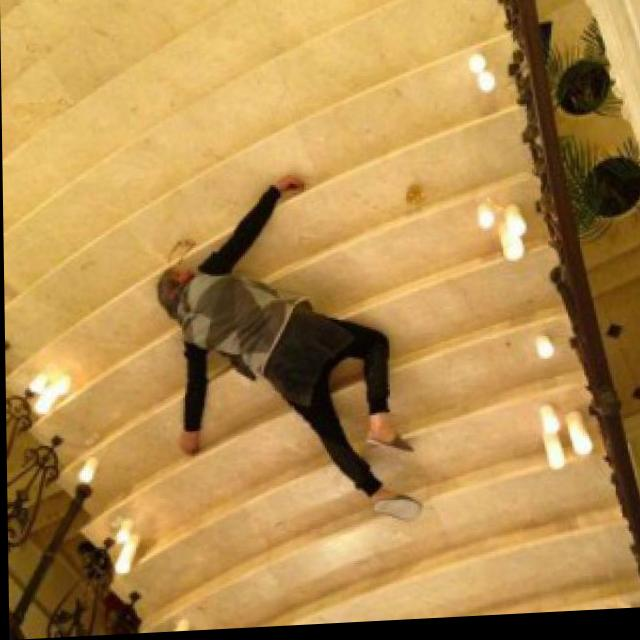fall: (155, 172, 424, 542)
